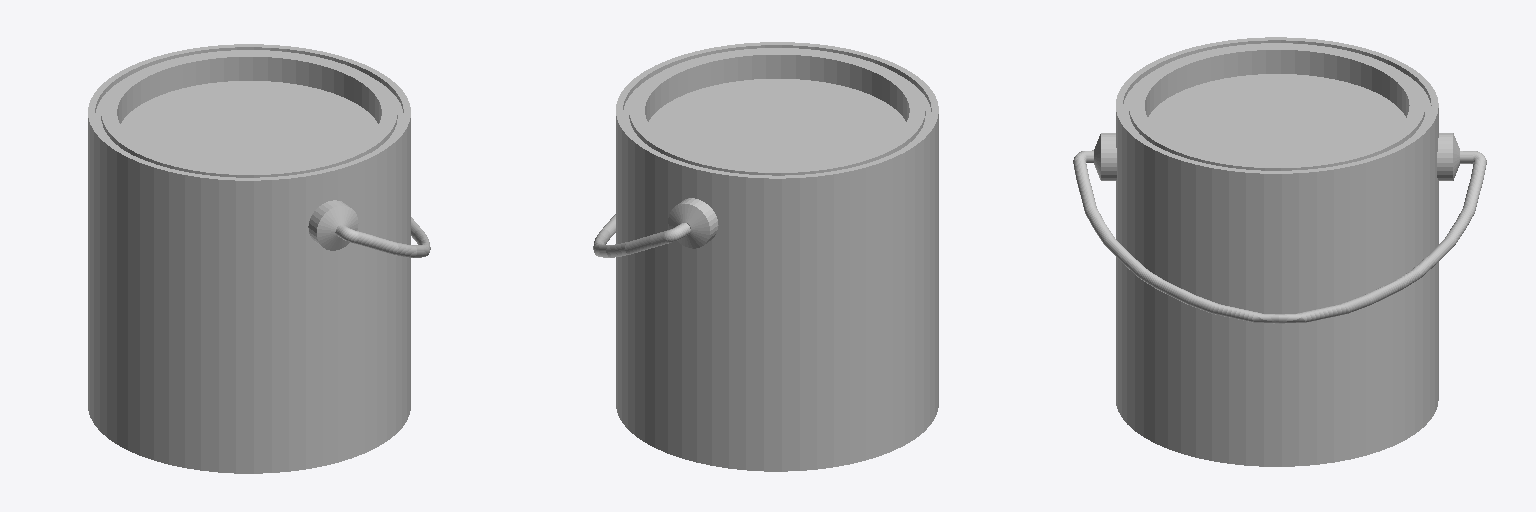
File: PaintCan.obj
3 renders of one model, left to right at view 1: azimuth 30°, elevation 25°; view 2: azimuth 150°, elevation 25°; view 3: azimuth 270°, elevation 25°, orthographic.
Parts seen in each view (by area): view 1: Cylinder.001; view 2: Cylinder.001; view 3: Cylinder.001.
Boxes of the visible parts, <box> form: Cylinder.001: <box>88,44,430,473</box>; Cylinder.001: <box>593,42,938,471</box>; Cylinder.001: <box>1073,37,1486,466</box>.
Size of the model in its own units: 2.11 by 2 by 2.56.